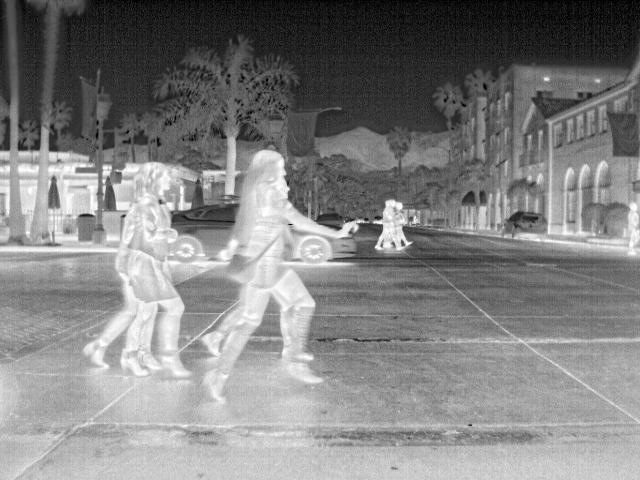car: (168, 204, 239, 264), (290, 226, 356, 263), (502, 211, 552, 240), (314, 211, 346, 232)
person: (197, 149, 362, 402), (128, 161, 192, 382), (372, 198, 403, 254), (393, 200, 414, 248), (625, 201, 640, 252)
